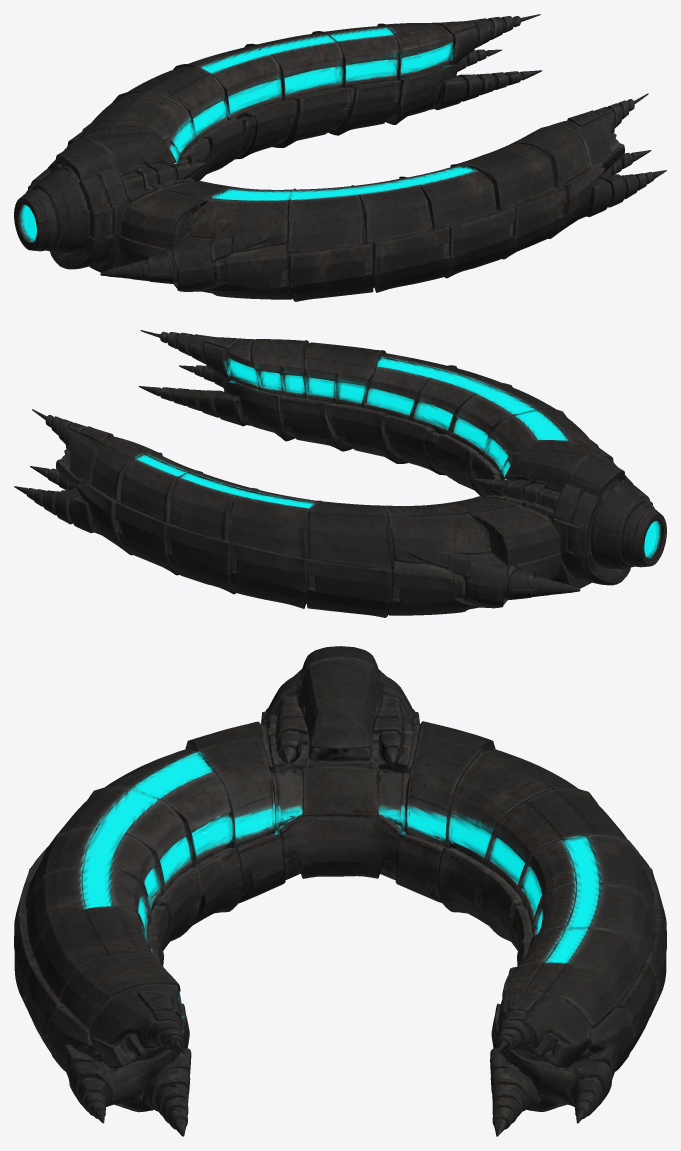
The model's file is aci-03.glb.
3 renders of one model, top to bottom at view 1: azimuth 30°, elevation 25°; view 2: azimuth 150°, elevation 25°; view 3: azimuth 270°, elevation 25°, orthographic. The views are drawn at different scales.
Parts seen in each view (by area): view 1: aci-03v4-master; view 2: aci-03v4-master; view 3: aci-03v4-master.
Part boxes in pixels (x1=…): aci-03v4-master: x1=14, y1=14, x2=666, y2=301; aci-03v4-master: x1=14, y1=330, x2=666, y2=617; aci-03v4-master: x1=14, y1=646, x2=666, y2=1136.
Bounding box in the file's own units: 1.9 × 0.4249 × 1.31.
1 material, 1 textured.
